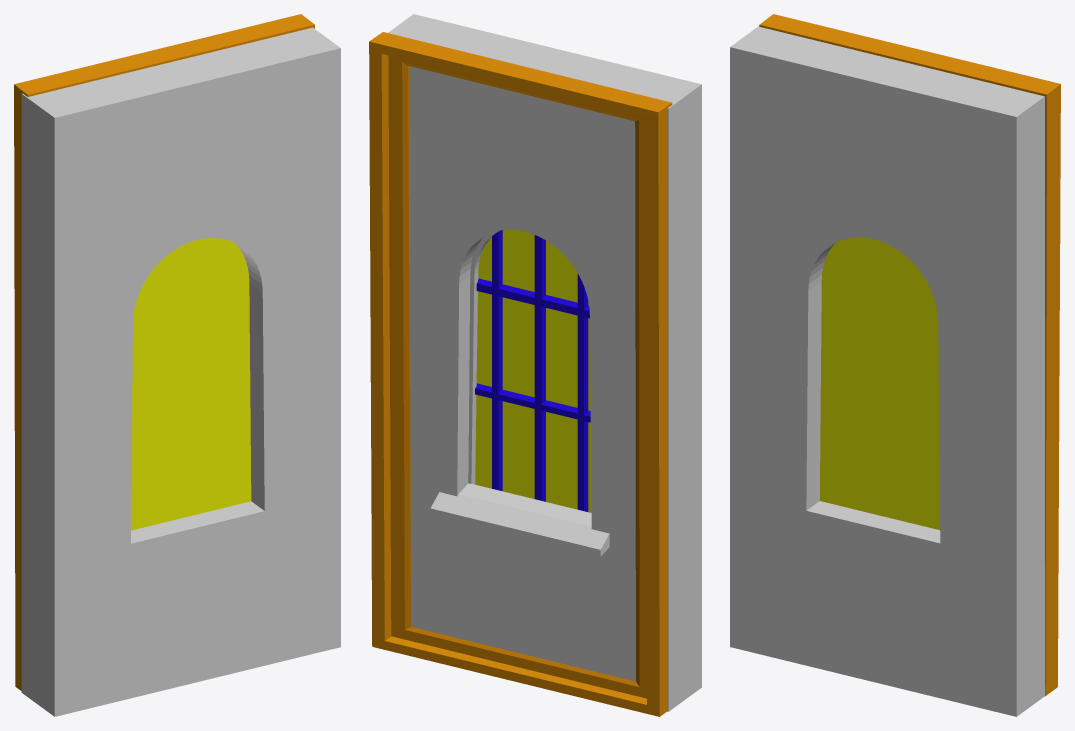
Rendered from Arch window wall 01.fbx.
3 views of the same model, side by side, from view 1: azimuth 30°, elevation 25°; view 2: azimuth 150°, elevation 25°; view 3: azimuth 330°, elevation 25° (orthographic).
Parts seen in each view (by area): view 1: Arch Window Wall 01.004, Cube.019, Arch Window Frame Base.004, Outer wall frame 01.002; view 2: Arch Window Wall 01.004, Outer wall frame 01.002, Cube.019, Cube.035, Arch Window Frame Base.004, Window Lower Curb 01.004; view 3: Arch Window Wall 01.004, Cube.019, Outer wall frame 01.002, Arch Window Frame Base.004.
Part boxes in pixels (x1,y1,x2,y2): Arch Window Wall 01.004: (21,27,340,716); Cube.019: (131,238,251,530); Arch Window Frame Base.004: (126,231,269,549); Outer wall frame 01.002: (14,14,314,690); Arch Window Wall 01.004: (388,14,701,711); Outer wall frame 01.002: (369,32,672,716); Cube.019: (475,229,591,512); Cube.035: (475,230,590,511); Arch Window Frame Base.004: (452,222,596,530); Window Lower Curb 01.004: (430,483,609,556); Arch Window Wall 01.004: (730,26,1044,716); Cube.019: (819,237,939,529); Outer wall frame 01.002: (759,14,1060,696); Arch Window Frame Base.004: (801,230,944,549).
Bounding box in the file's own units: 202 × 402 × 50.89.
